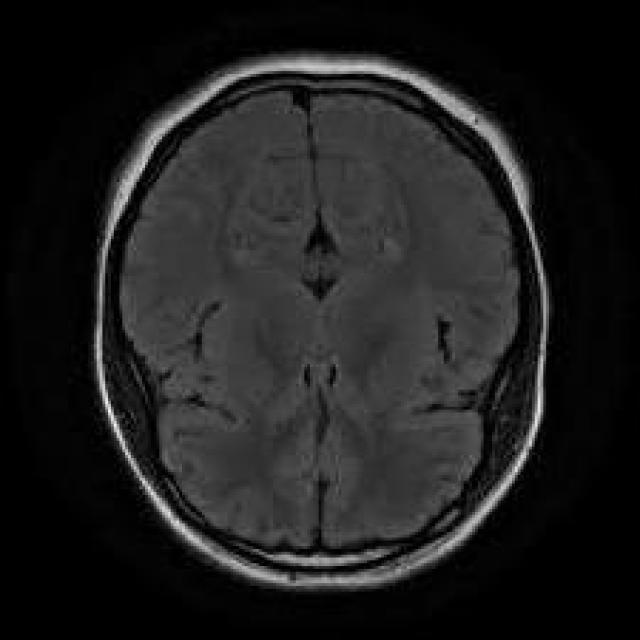No_Tumor: (95, 53, 549, 588)
